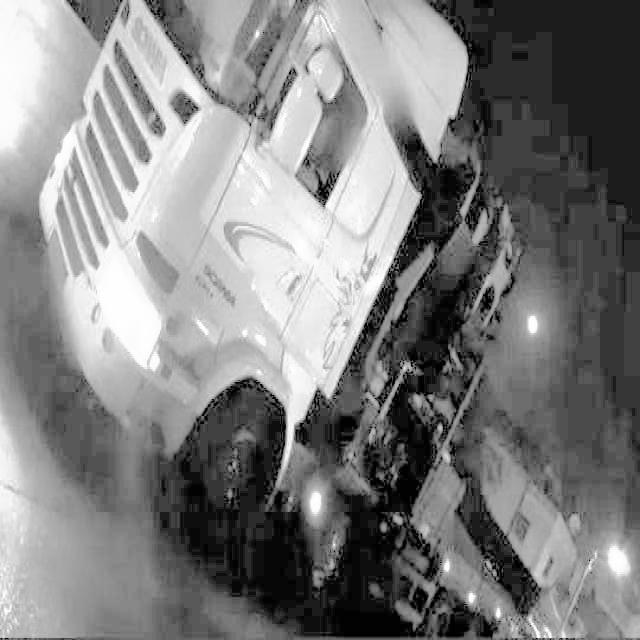Truck: (36, 0, 469, 535)
